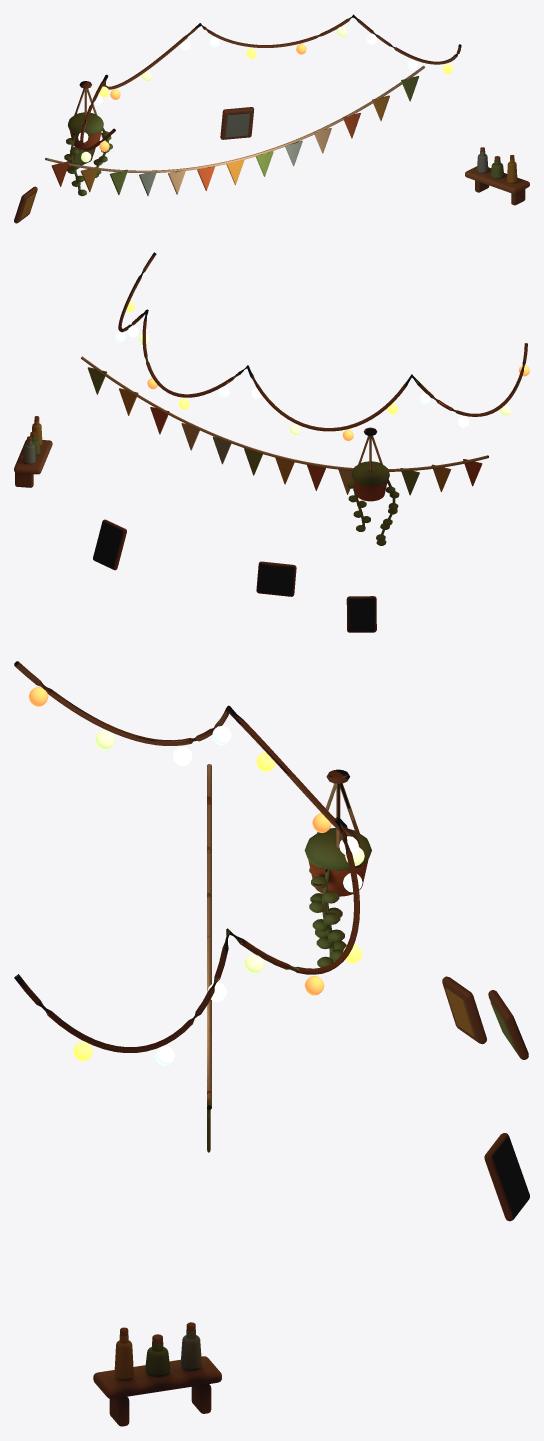
File: room_deco_v1.glb
The picture shows the model from 3 angles, top to bottom: view 1: azimuth 30°, elevation 25°; view 2: azimuth 150°, elevation 25°; view 3: azimuth 270°, elevation 25°; orthographic projection. The views are drawn at different scales.
Visible parts, largest first — view 1: bunting, string_lights_wire, bunting_string, shelf, shelf_board, hanging_plant_foliage, frame_01_picture, frame_01_border, hanging_plant, hanging_plant_vine_01_leaves, frame_03_border, string_lights_bulbs_orange (+4 smaller); view 2: bunting, string_lights_wire, bunting_string, frame_02_border, frame_01_border, frame_03_border, hanging_plant_foliage, shelf, shelf_board, hanging_plant, hanging_plant_pot; view 3: string_lights_wire, shelf, shelf_board, frame_01_border, bunting_string, hanging_plant_foliage, hanging_plant_vine_02_leaves, frame_03_border, hanging_plant, string_lights_bulbs_orange.
Boxes of the visible parts, left/top/right/bottom form: bunting: left=51, top=76, right=418, bottom=195; string_lights_wire: left=80, top=14, right=461, bottom=150; bunting_string: left=45, top=65, right=425, bottom=172; shelf: left=475, top=154, right=525, bottom=205; shelf_board: left=465, top=166, right=529, bottom=193; hanging_plant_foliage: left=68, top=112, right=103, bottom=135; frame_01_picture: left=225, top=113, right=250, bottom=137; frame_01_border: left=220, top=107, right=254, bottom=139; hanging_plant: left=70, top=88, right=108, bottom=190; hanging_plant_vine_01_leaves: left=64, top=138, right=86, bottom=196; frame_03_border: left=14, top=186, right=37, bottom=223; string_lights_bulbs_orange: left=99, top=44, right=306, bottom=151; bunting: left=87, top=367, right=482, bottom=495; string_lights_wire: left=118, top=252, right=527, bottom=431; bunting_string: left=81, top=356, right=488, bottom=471; frame_02_border: left=256, top=561, right=296, bottom=596; frame_01_border: left=93, top=519, right=126, bottom=570; frame_03_border: left=346, top=596, right=376, bottom=632; hanging_plant_foliage: left=351, top=461, right=389, bottom=486; shelf: left=15, top=423, right=42, bottom=487; shelf_board: left=14, top=439, right=52, bottom=474; hanging_plant: left=353, top=435, right=395, bottom=544; hanging_plant_pot: left=353, top=481, right=387, bottom=501; string_lights_wire: left=14, top=661, right=359, bottom=1052; shelf: left=109, top=1335, right=211, bottom=1426; shelf_board: left=93, top=1356, right=221, bottom=1398; frame_01_border: left=484, top=1133, right=529, bottom=1221; bunting_string: left=207, top=764, right=211, bottom=1109; hanging_plant_foliage: left=304, top=828, right=371, bottom=870; hanging_plant_vine_02_leaves: left=309, top=876, right=344, bottom=961; frame_03_border: left=442, top=976, right=486, bottom=1044; hanging_plant: left=317, top=783, right=359, bottom=961; string_lights_bulbs_orange: left=28, top=687, right=331, bottom=995.
Size of the model in its own units: 4.93 by 2.06 by 2.6.
6 materials, 1 textured.
